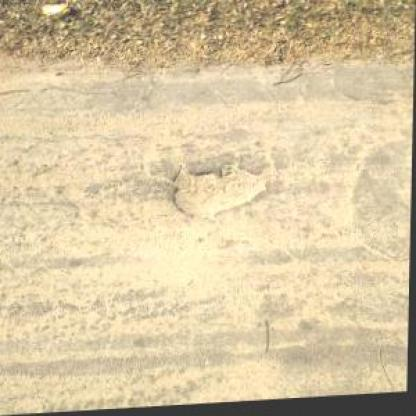pothole: (168, 160, 272, 220)
